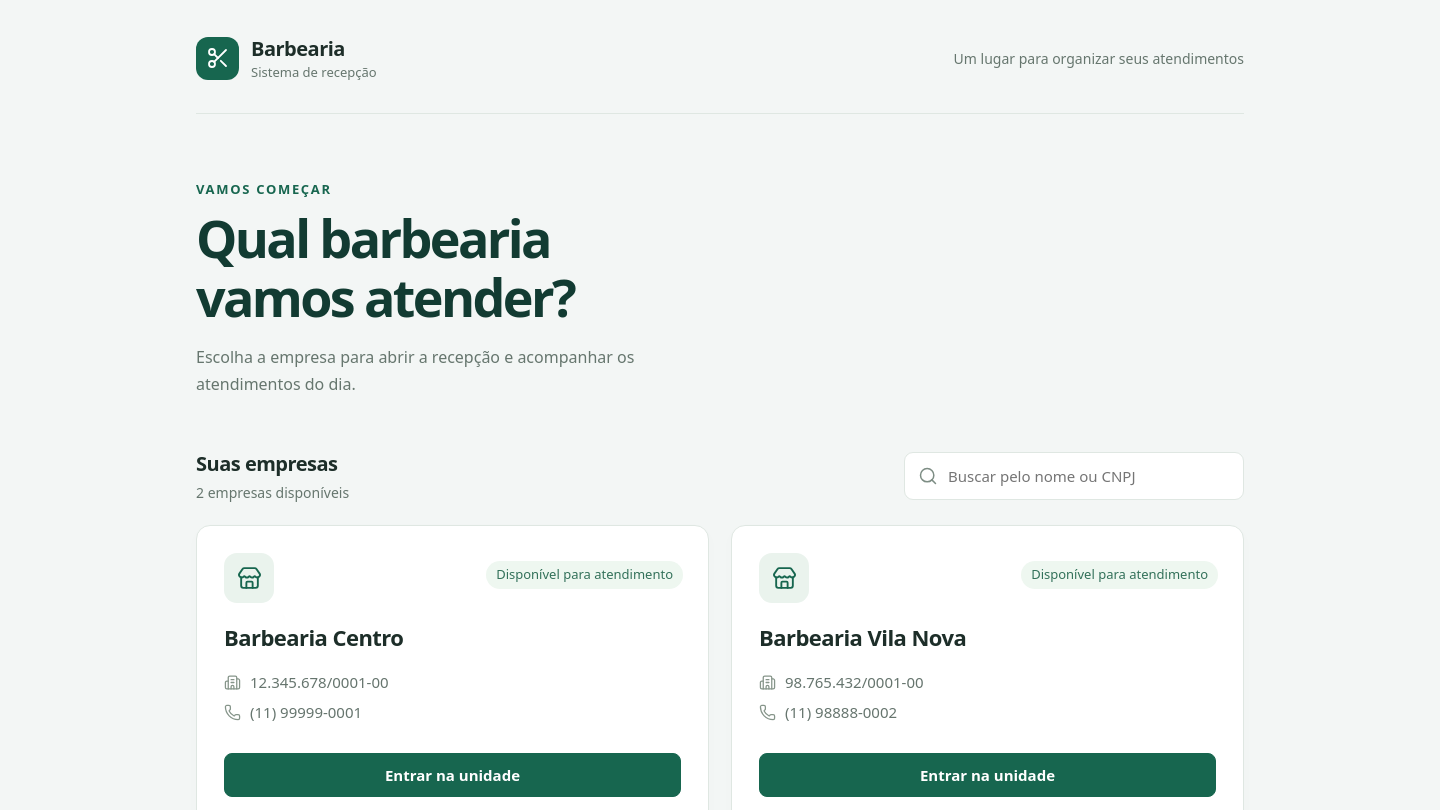
Test: Entrada e contexto de empresa › abre a empresa escolhida, envia o contexto e mostra os indicadores da API
Click the button with aria-label "Entrar na empresa Barbearia Centro": (452, 775) [224,753,681,797]
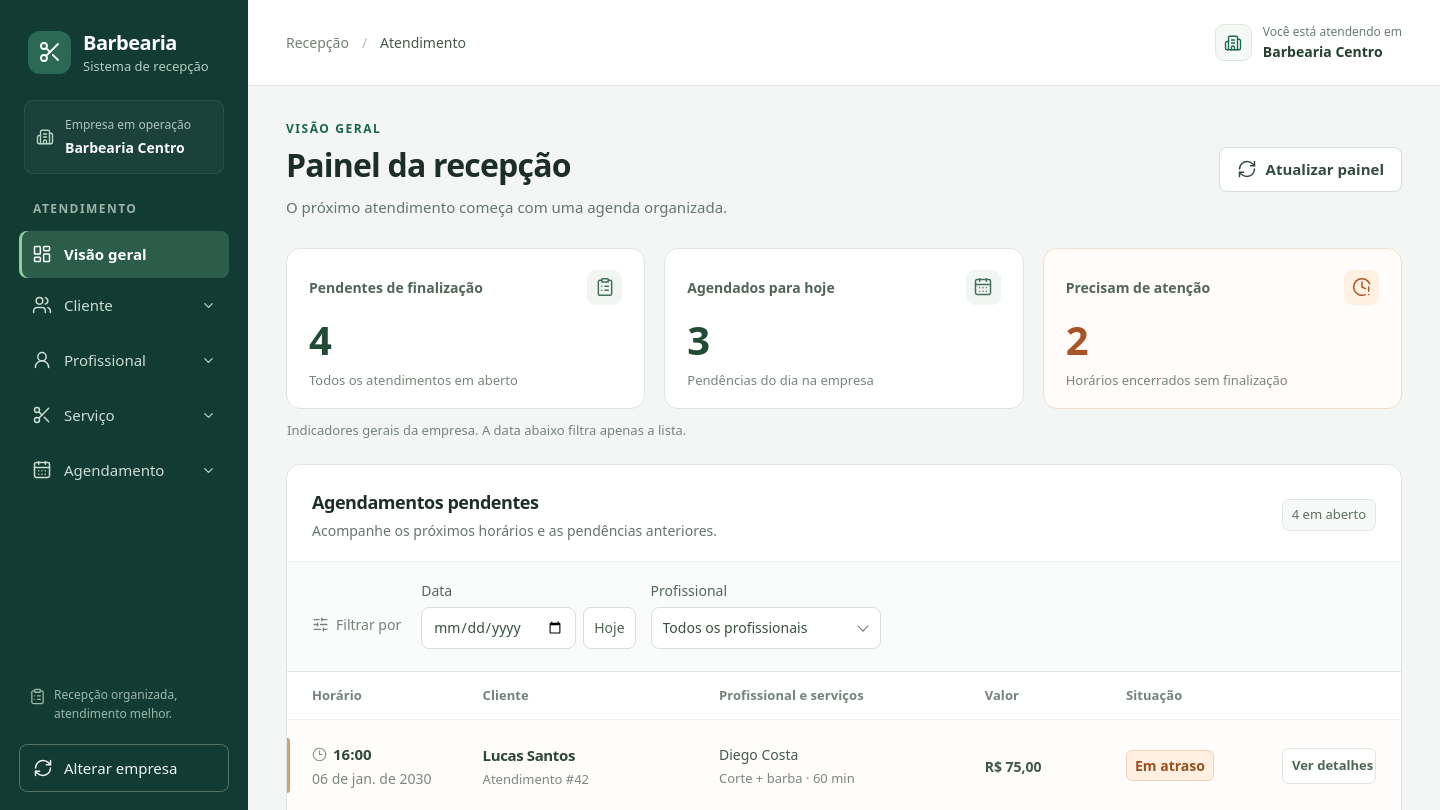
Check: the heading "Painel da recepção" is shown, box [286,143,571,186]
Check: the element named "Indicadores de atendimento" shows "4", box [309,312,330,367]
